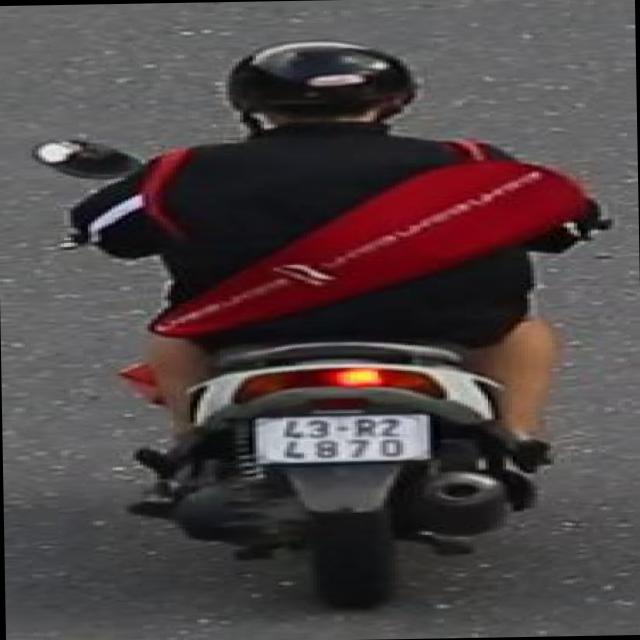LP: (250, 409, 442, 467)
helmet: (214, 32, 425, 140)
